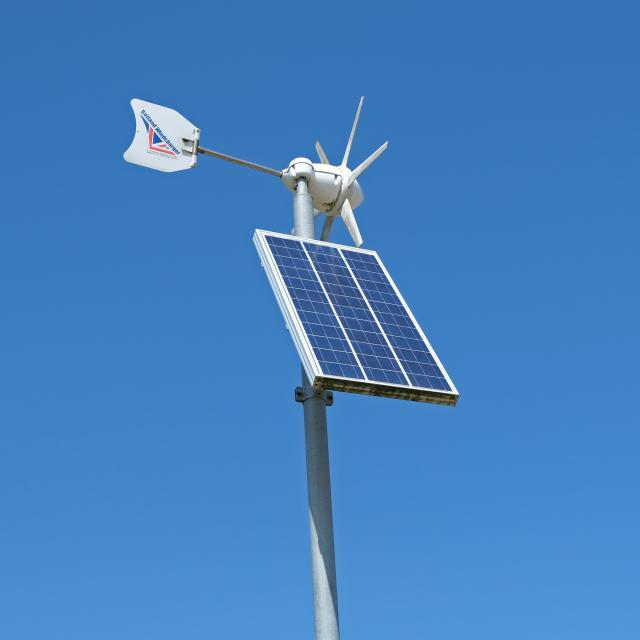clean-solar-panel: (254, 230, 459, 405)
